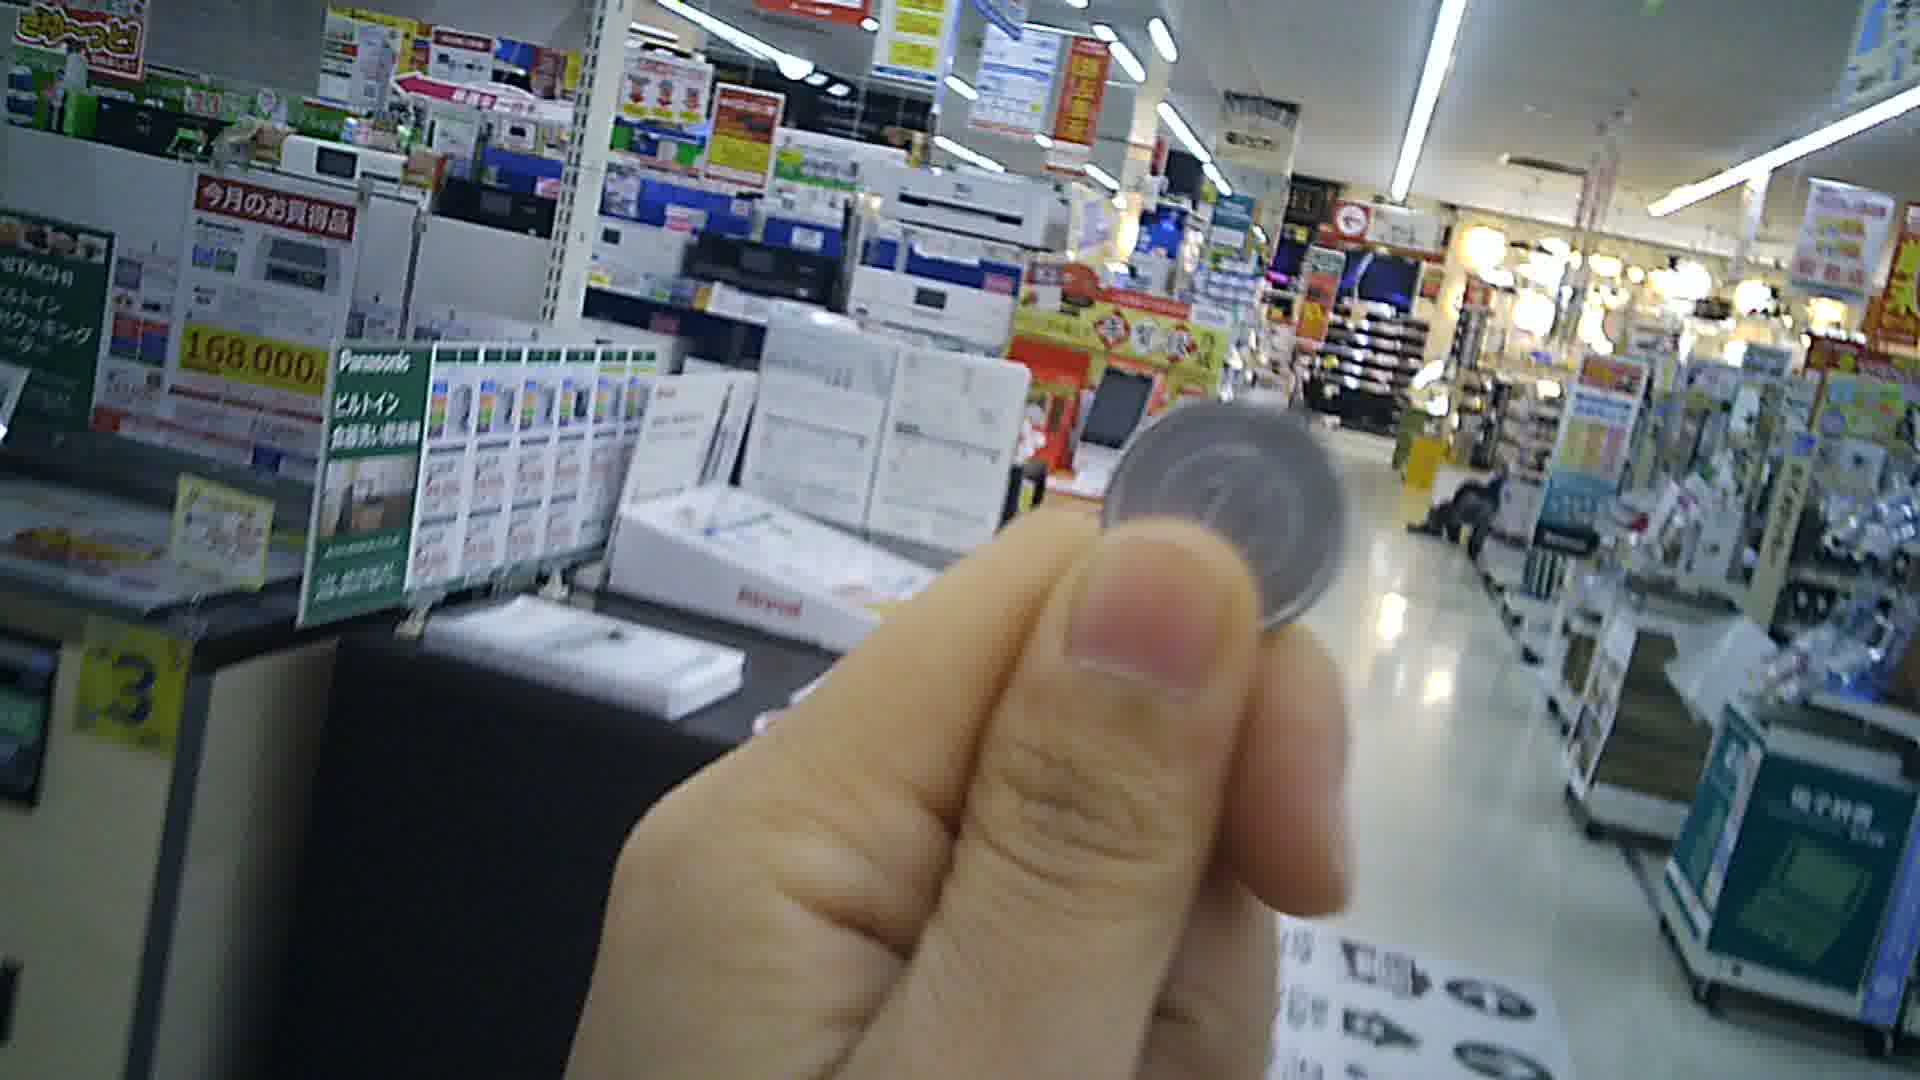1 Yen: (1100, 398, 1373, 640)
